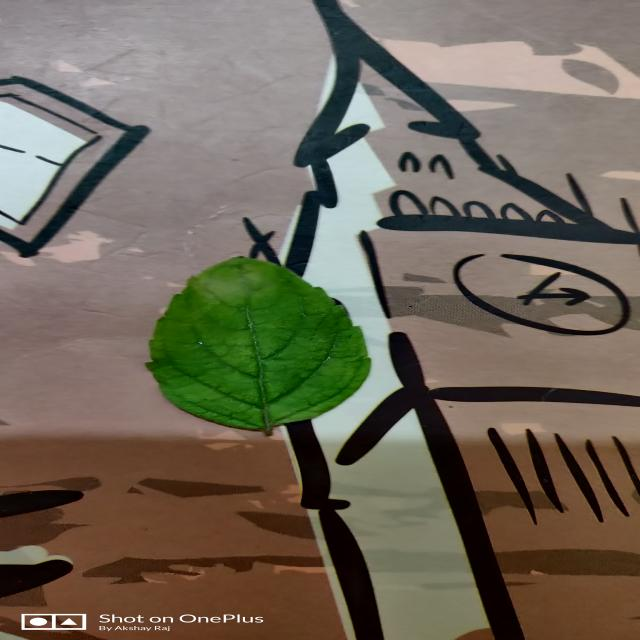tulsi: (146, 258, 371, 434)
